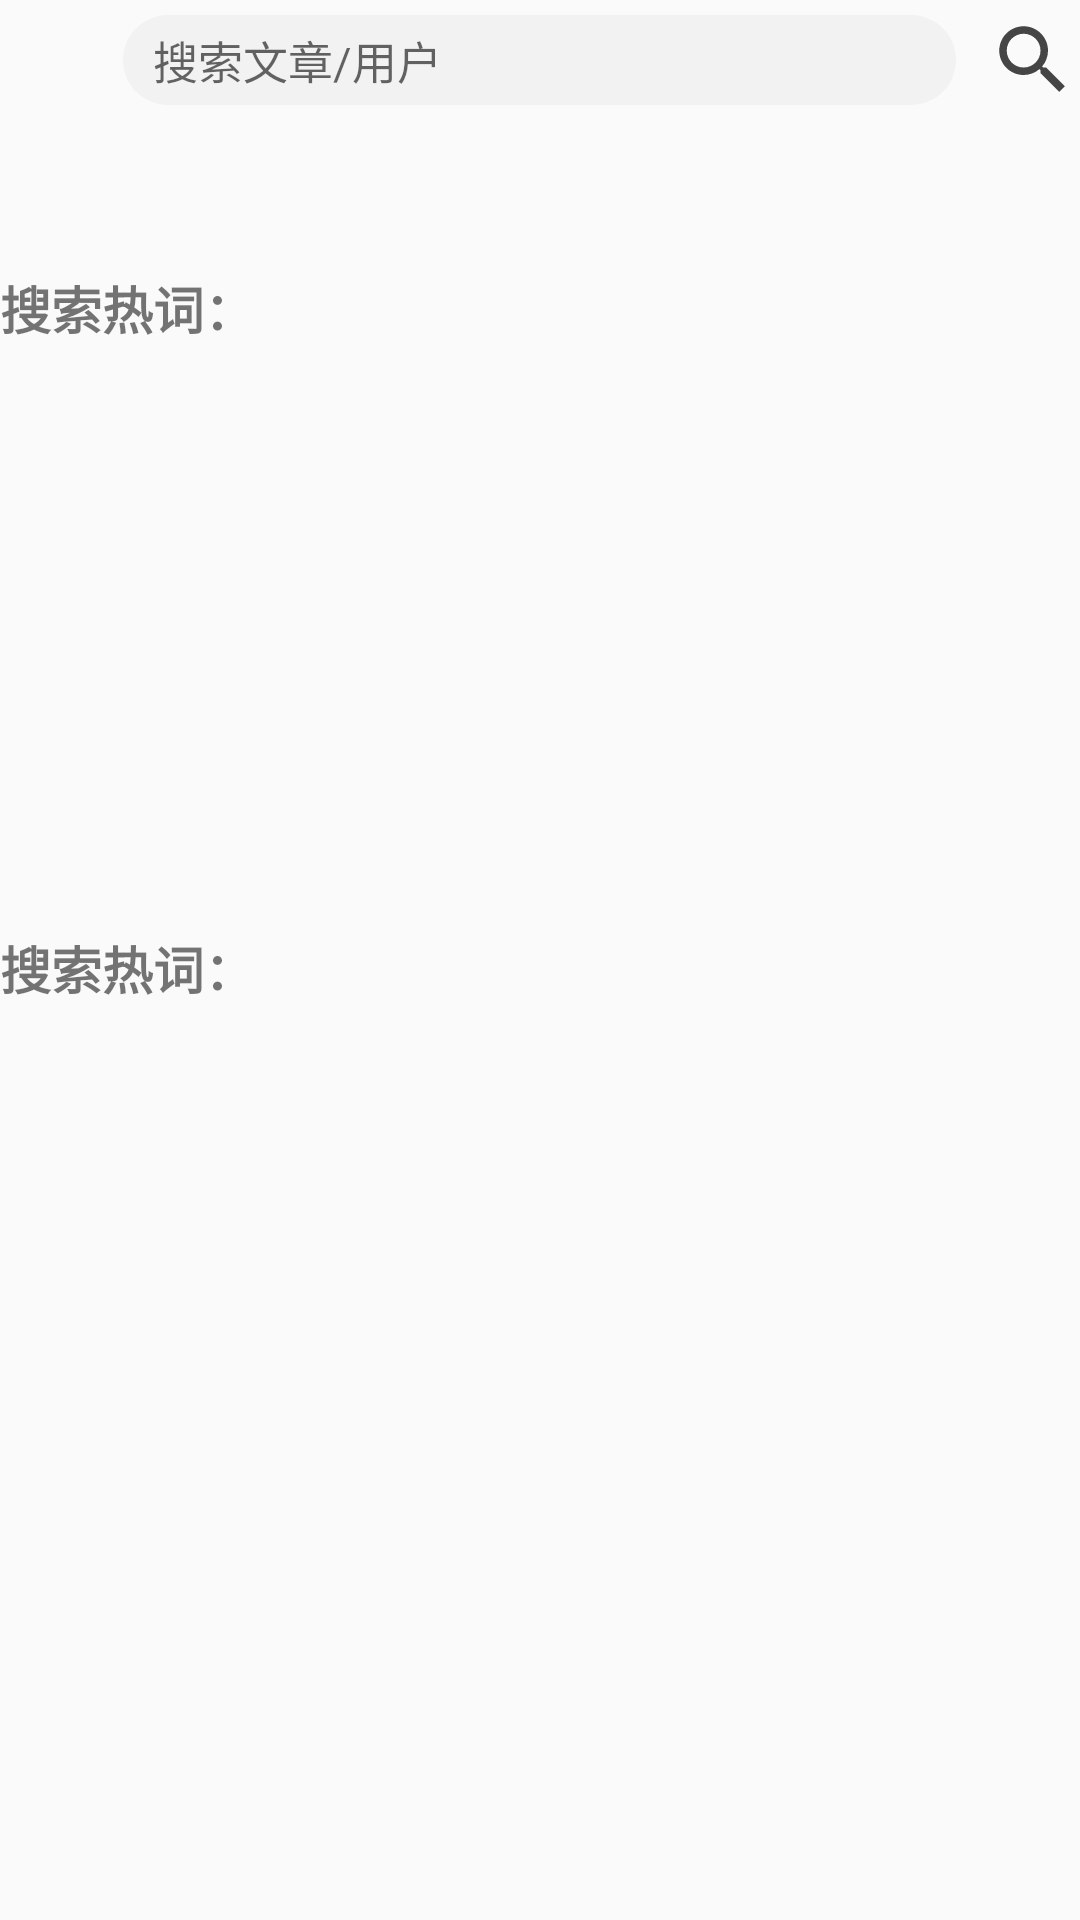

Named icons in this screenshot (1080×1920) and their centers, (x,y):
search: (1032,59)
